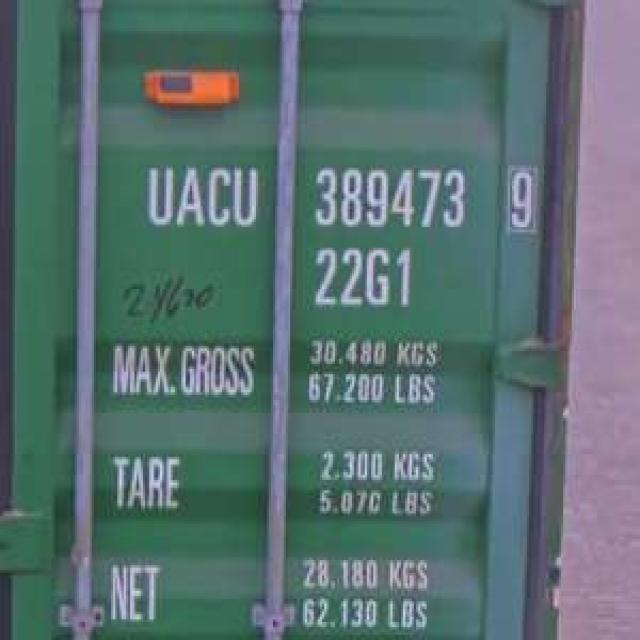dv: (498, 157, 546, 239)
owner: (141, 157, 265, 231)
serial: (311, 156, 473, 237)
size: (312, 242, 416, 314)
